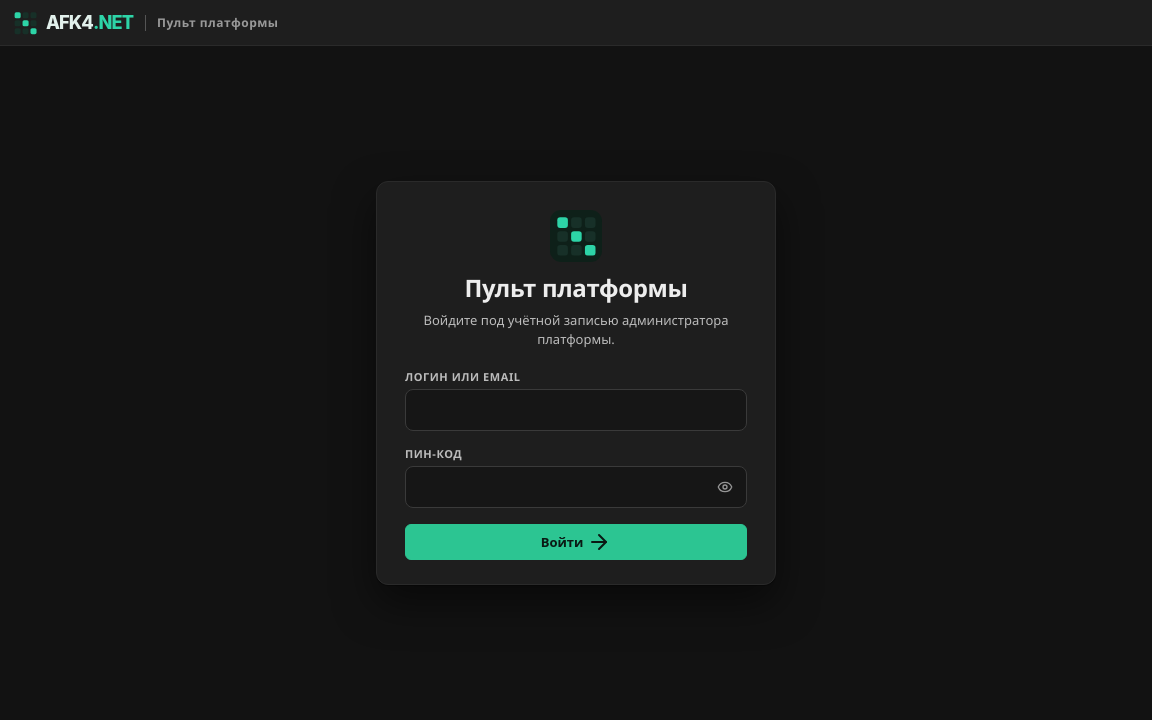
Test case: SignIn — отказы › неверный пароль называет неверным паролем
This screenshot has width=1152, height=720.
Type "owner@platform.test" into the field labelled "Логин или email" at (576, 410), box [405,389,747,431]
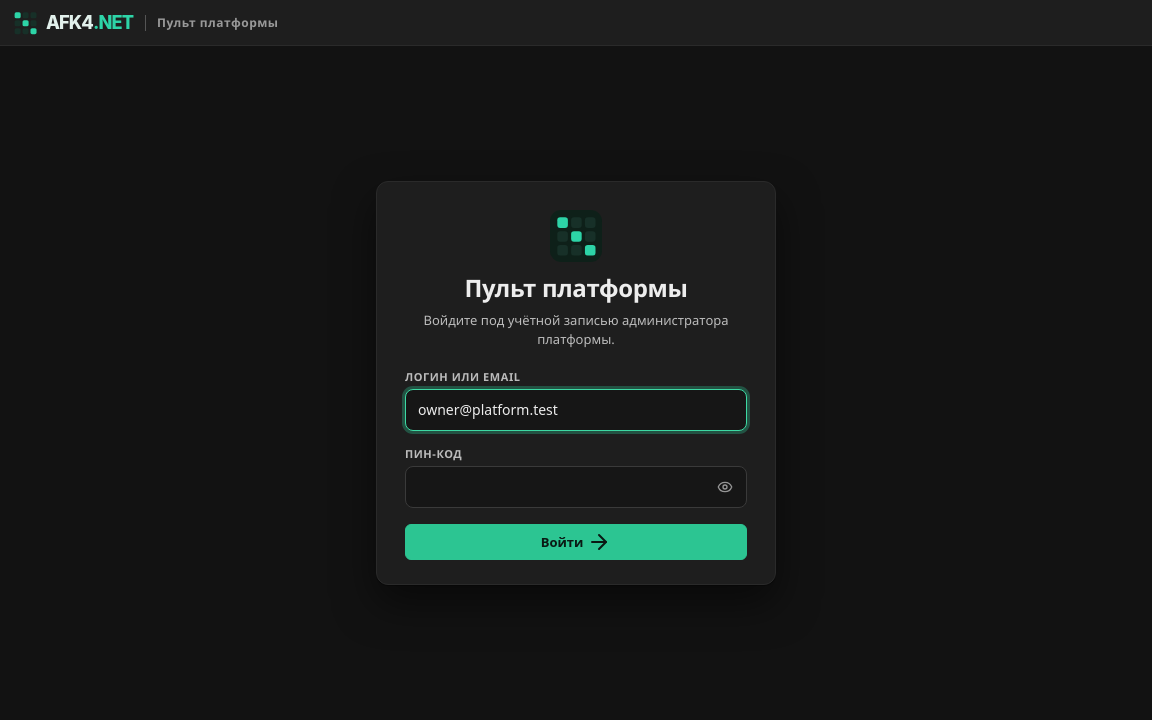
Type "111111" into the password field labelled "ПИН-код" at (576, 487), box [405,466,747,508]
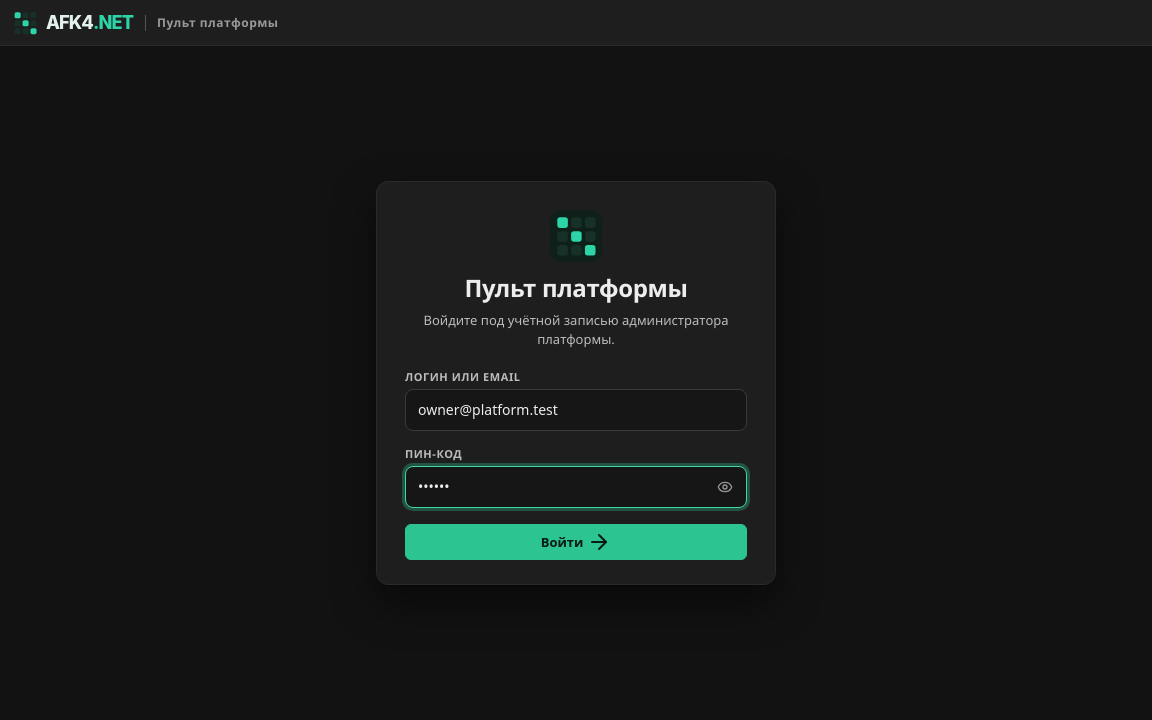
Click the button "Войти" at (576, 542), box [405,524,747,560]
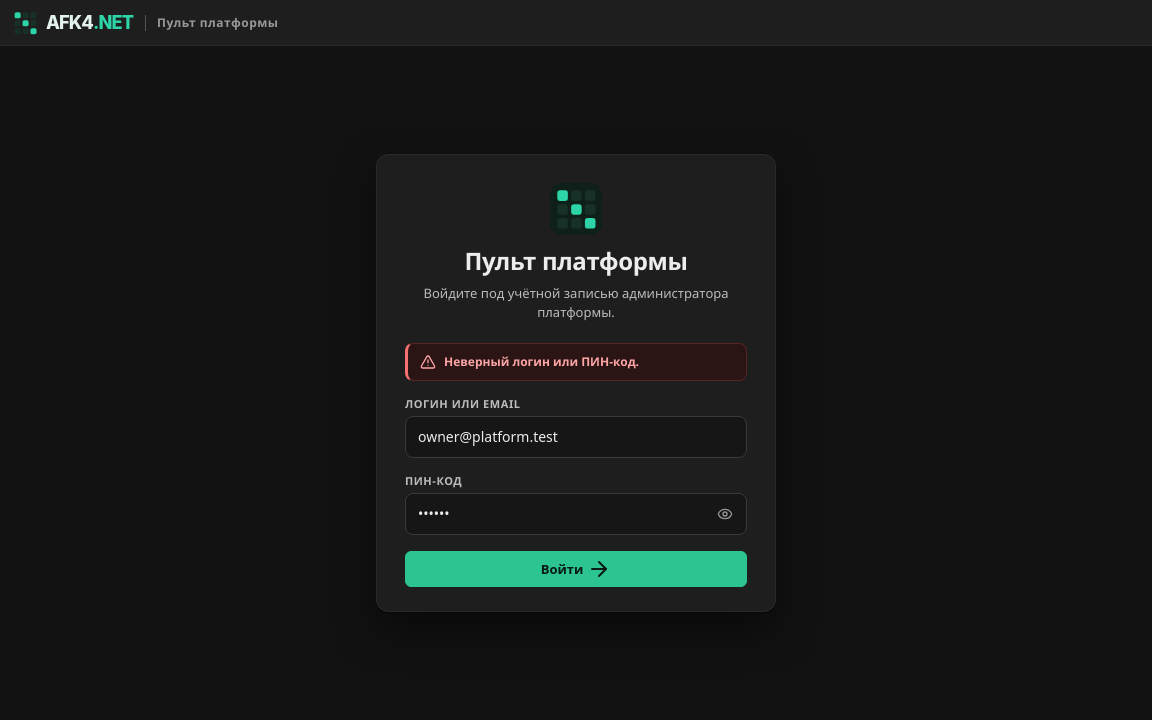
Check: the message "Неверный логин или ПИН-код." is shown, box [405,343,747,381]
